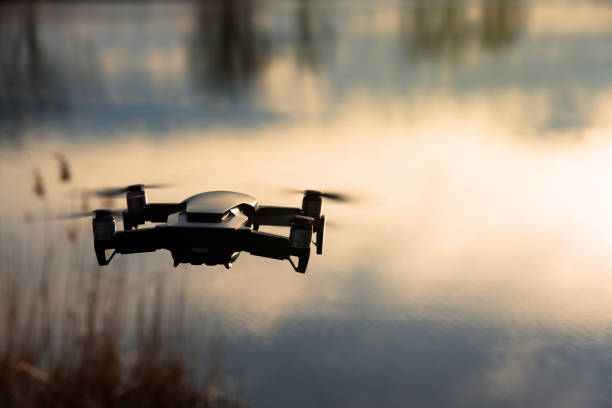Drone: (53, 177, 357, 280)
